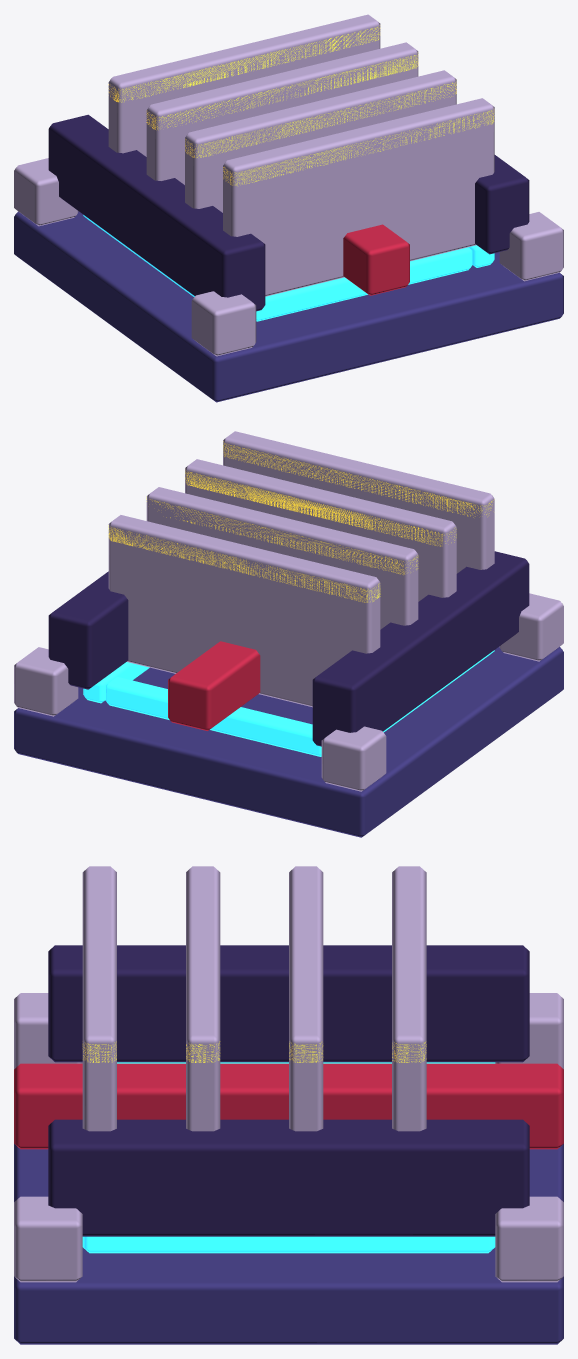
Rendered from radiator.sm.glb.
The picture shows the model from 3 angles, top to bottom: view 1: azimuth 30°, elevation 25°; view 2: azimuth 150°, elevation 25°; view 3: azimuth 270°, elevation 25°; orthographic projection. The views are drawn at different scales.
Visible parts, largest first — view 1: radiator.sm; view 2: radiator.sm; view 3: radiator.sm.
Part boxes in pixels (box(x1,y1,x2,y2)): radiator.sm: box(14, 14, 563, 402); radiator.sm: box(14, 431, 563, 837); radiator.sm: box(14, 866, 563, 1344).
Bounding box in the file's own units: 1 × 0.5625 × 1.
